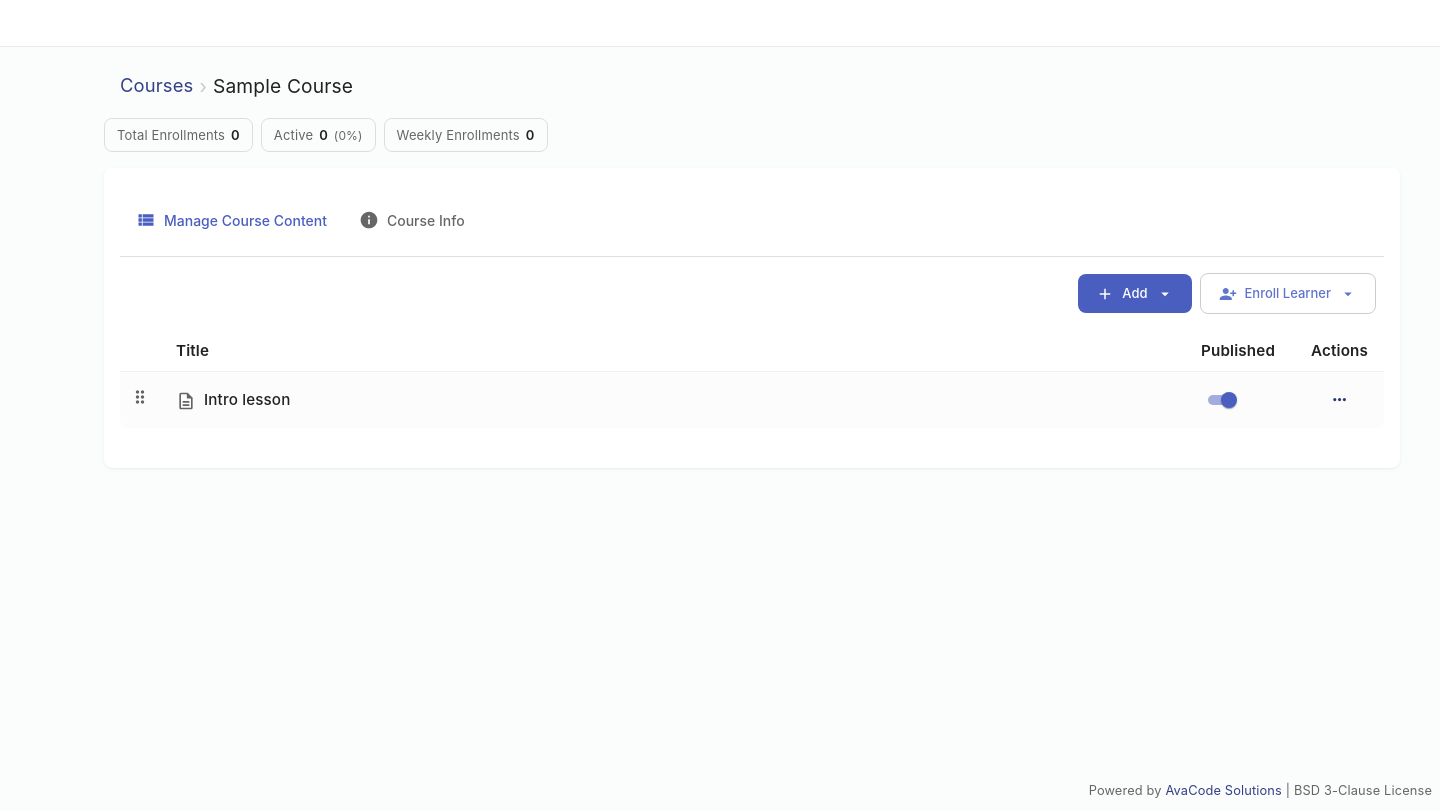
Test case: Course › lists every content type and tracks in the Add menu
The width and height of the screenshot is (1440, 810).
Click the button "Add": coordinates (1135, 294) x1=1078 y1=274 x2=1192 y2=313
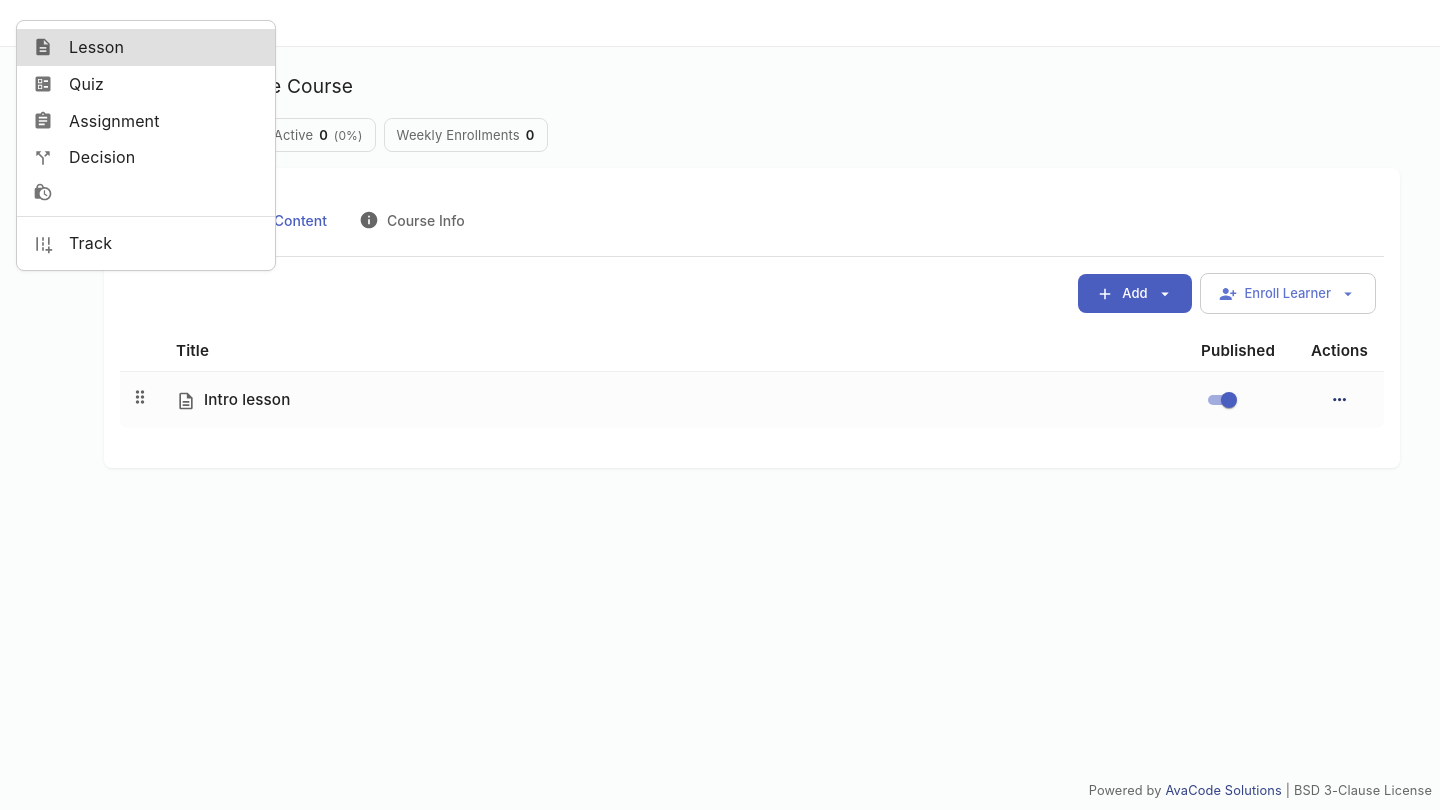
Result: the menu item "Lesson" is shown at x1=17 y1=29 x2=275 y2=66
Result: the menu item "Quiz" is shown at x1=33 y1=74 x2=104 y2=94
Result: the menu item "Assignment" is shown at x1=33 y1=111 x2=160 y2=131
